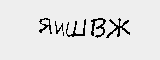Б: (89, 22, 103, 38), (103, 25, 115, 39)
Р: (52, 14, 70, 37)
С: (26, 14, 51, 38)
Э: (114, 24, 131, 39)
Ғ: (71, 19, 87, 38)
